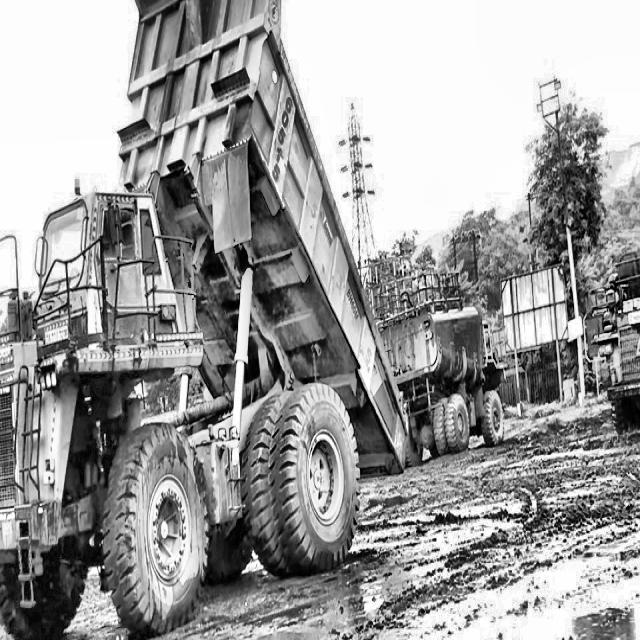dump_truck: (0, 0, 414, 613), (598, 225, 640, 427)
